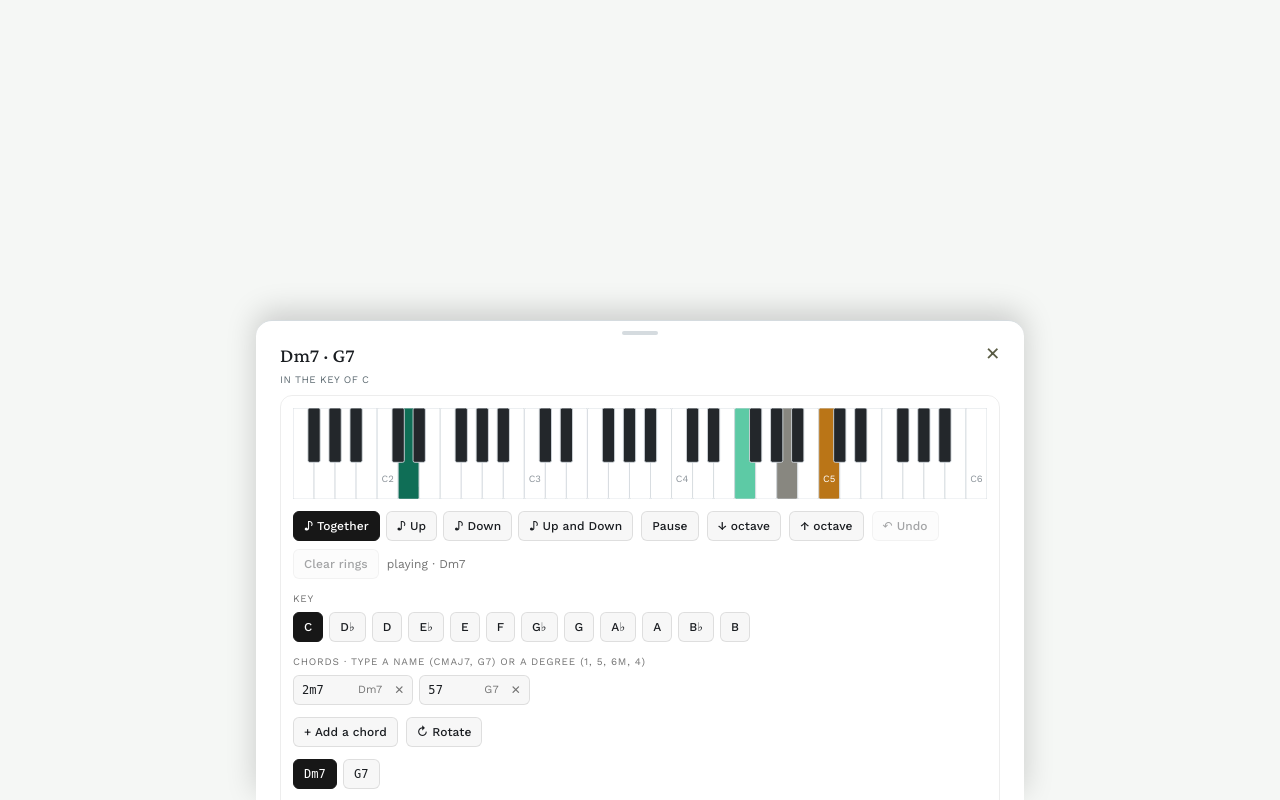
Scenario: a progression card is the loop builder (spec §7) › Key moves the loop and plays it, and the line under the title follows
The width and height of the screenshot is (1280, 800).
Click the button "F": (500, 627) [486,612,515,642]
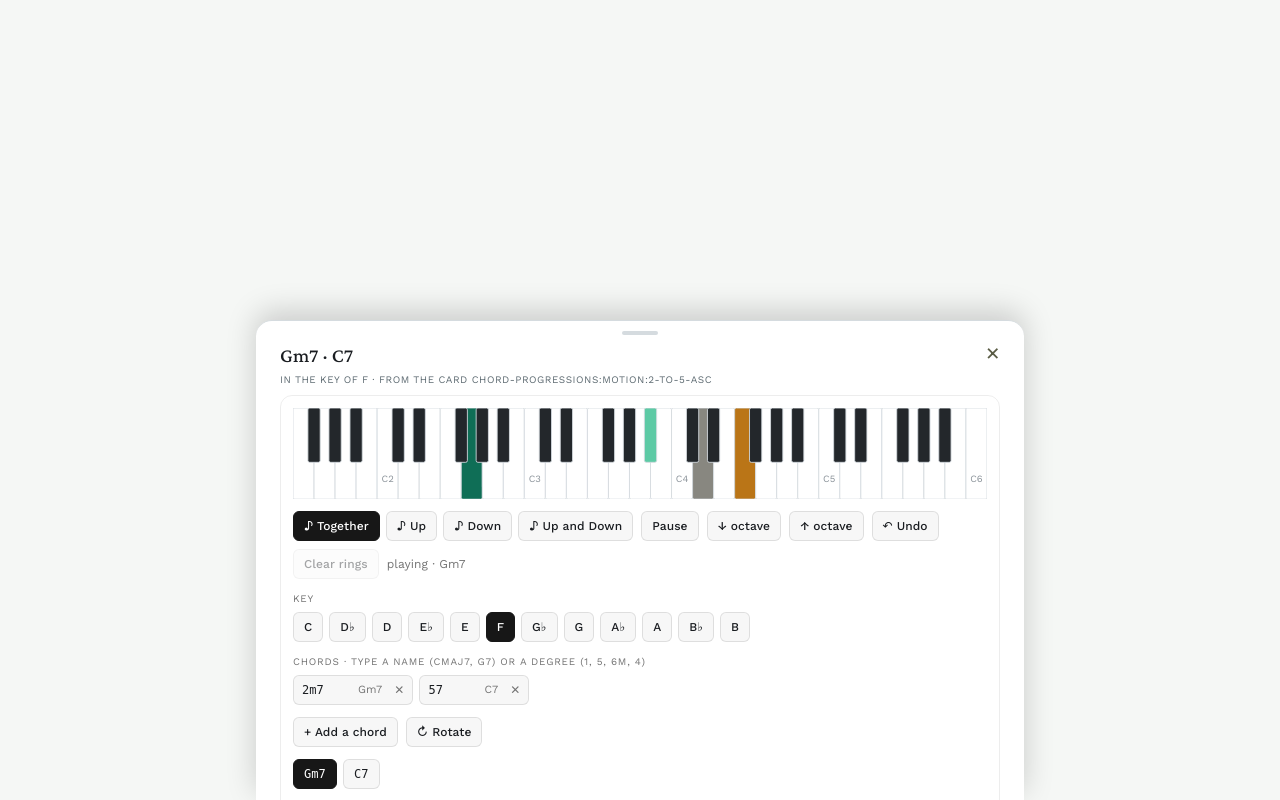
Expected: the heading "Gm7 · C7" is shown, [280,344,353,366]
